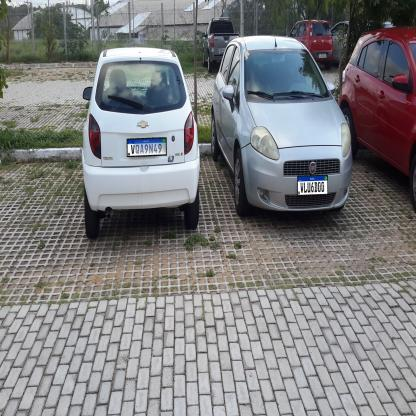PlacaM: (127, 137, 167, 157), (297, 175, 328, 196)
